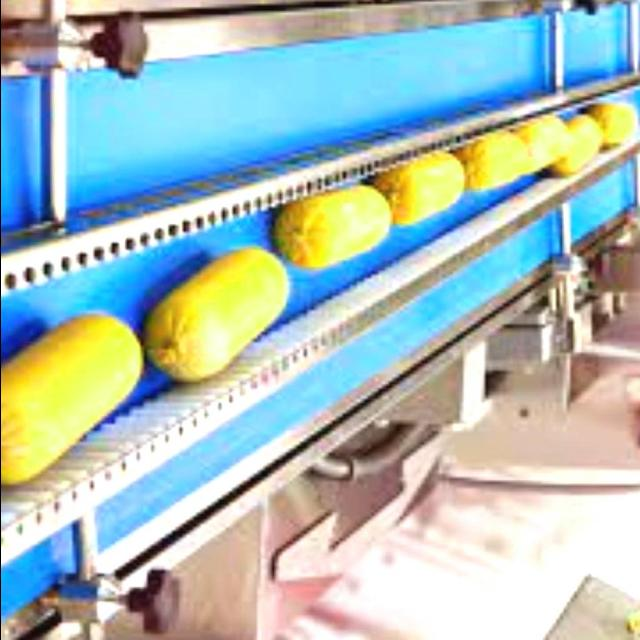food: (1, 310, 145, 487), (138, 244, 298, 388), (261, 178, 398, 276)
